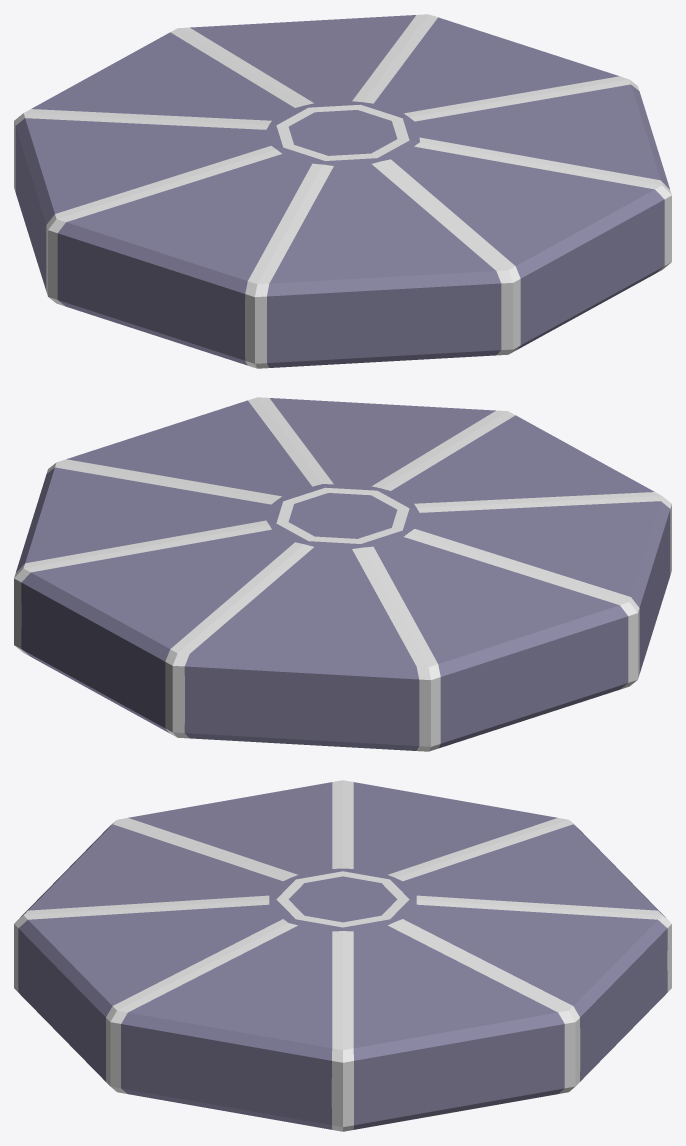
The model's file is PointDefenceDisk.fbx.
The picture shows the model from 3 angles, top to bottom: view 1: azimuth 30°, elevation 25°; view 2: azimuth 150°, elevation 25°; view 3: azimuth 270°, elevation 25°; orthographic projection. The views are drawn at different scales.
Visible parts, largest first — view 1: Disc; view 2: Disc; view 3: Disc.
Part boxes in pixels (x1,y1,x2,y2): Disc: (14,14,671,368); Disc: (14,397,671,751); Disc: (14,780,671,1131).
Size of the model in its own units: 18.29 by 3.47 by 18.29.
